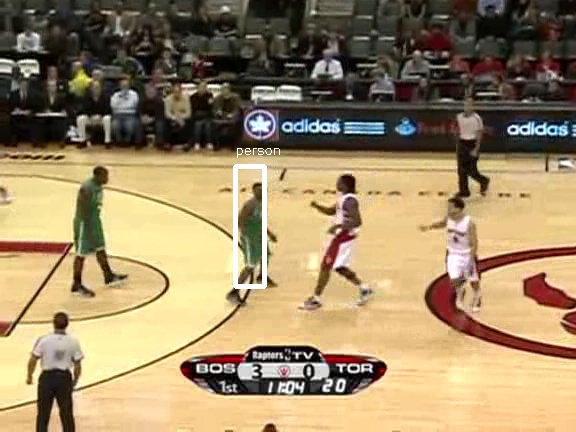person: (241, 190, 275, 271), (240, 190, 274, 271), (242, 190, 276, 271), (241, 189, 275, 270), (241, 191, 275, 272)
target_negative: (350, 151, 513, 272), (502, 187, 527, 416), (51, 402, 185, 424), (411, 384, 515, 399), (386, 50, 391, 270), (566, 132, 569, 224)
